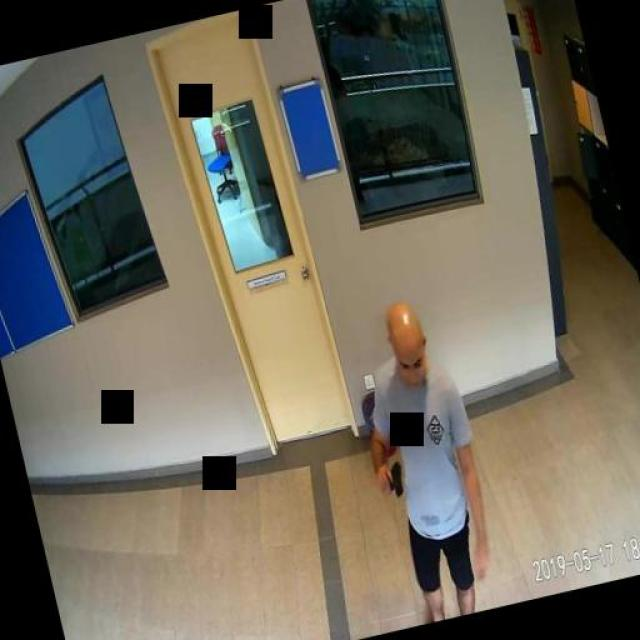gun: (373, 460, 405, 500)
